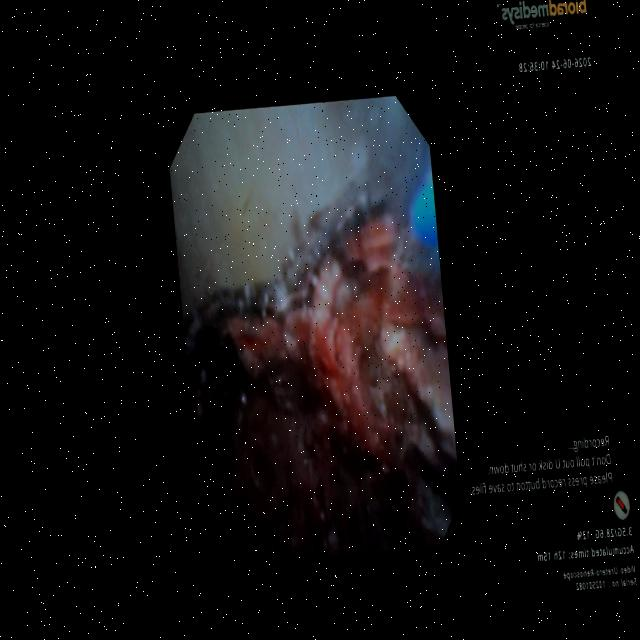stone-new: (184, 189, 461, 563)
